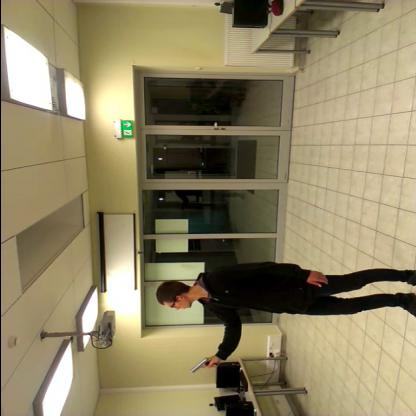Pistol: (182, 354, 222, 376)
